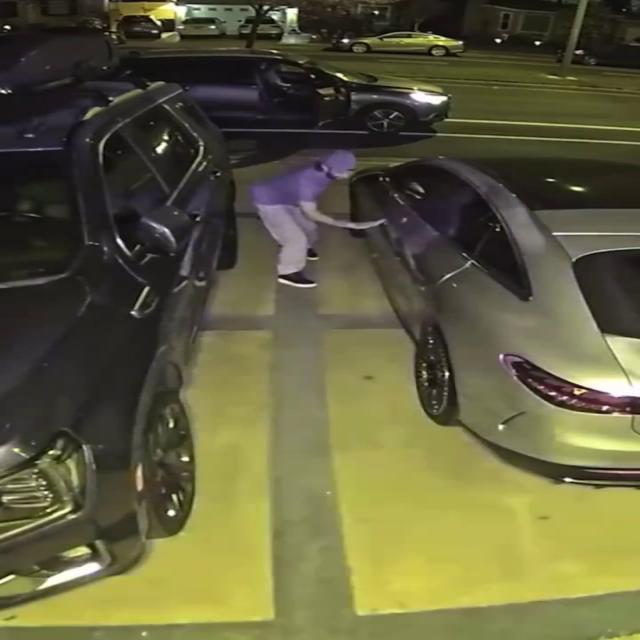Theft - Alert: (120, 48, 450, 137), (252, 148, 382, 288)
